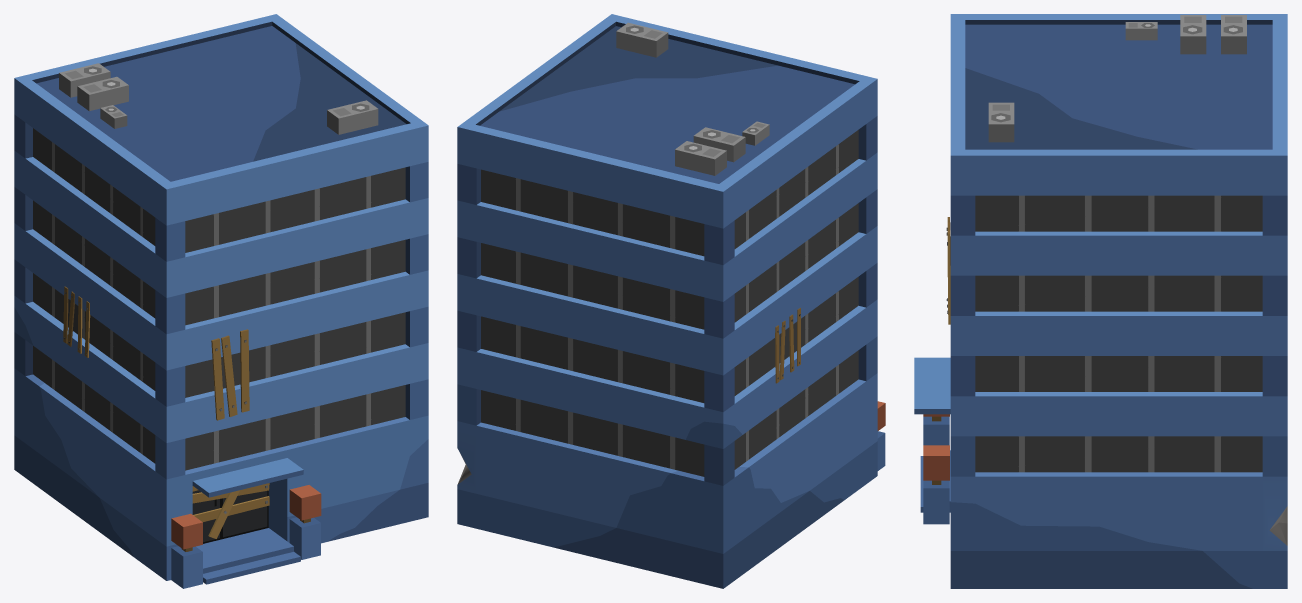
Rendered from SA_Bld_OfficeBlue_02.gltf.
The picture shows the model from 3 angles, left to right: view 1: azimuth 30°, elevation 25°; view 2: azimuth 150°, elevation 25°; view 3: azimuth 270°, elevation 25°; orthographic projection. The views are drawn at different scales.
Visible parts, largest first — view 1: SA_Bld_OfficeBlue_02; view 2: SA_Bld_OfficeBlue_02; view 3: SA_Bld_OfficeBlue_02.
Boxes of the visible parts, left/top/right/bottom form: SA_Bld_OfficeBlue_02: left=14, top=14, right=428, bottom=588; SA_Bld_OfficeBlue_02: left=457, top=14, right=885, bottom=588; SA_Bld_OfficeBlue_02: left=914, top=14, right=1287, bottom=588.
Size of the model in its own units: 13.75 by 20.04 by 15.17.
1 material, 1 textured.
